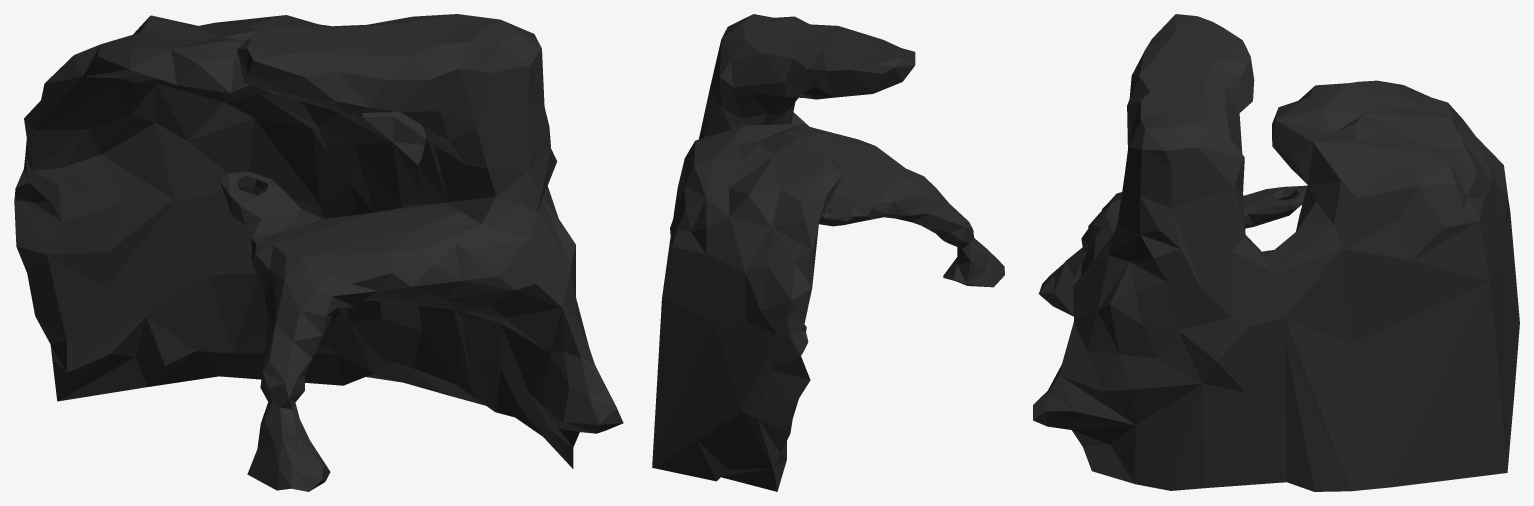
Rendered from CoralPuzzle_Wall.fbx.
The picture shows the model from 3 angles, left to right: view 1: azimuth 30°, elevation 25°; view 2: azimuth 150°, elevation 25°; view 3: azimuth 270°, elevation 25°; orthographic projection. The views are drawn at different scales.
Parts seen in each view (by area): view 1: Cube.002; view 2: Cube.002; view 3: Cube.002.
Part boxes in pixels (bbox=[...]): Cube.002: bbox=[14, 14, 623, 491]; Cube.002: bbox=[652, 14, 1004, 491]; Cube.002: bbox=[1033, 14, 1519, 491].
Bounding box in the file's own units: 6018 × 7763 × 8638.
